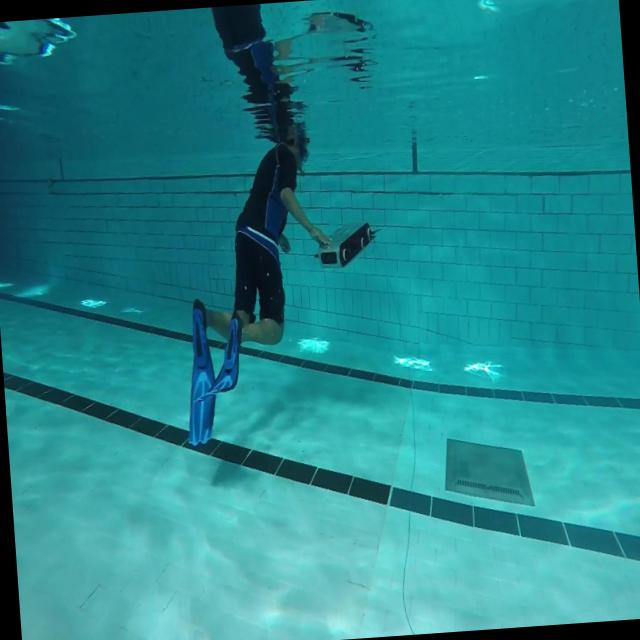human: (178, 114, 340, 353)
